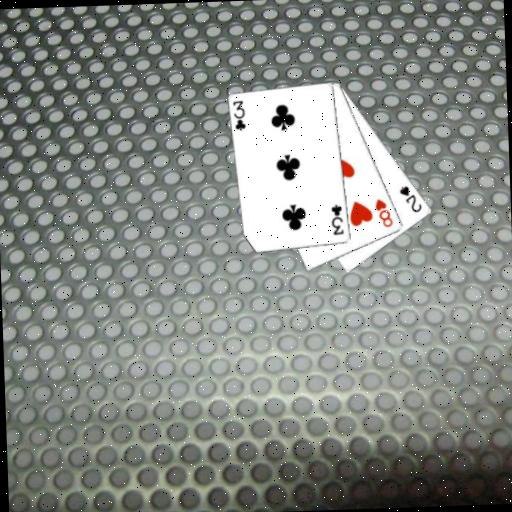2S: (396, 182, 424, 214)
3C: (327, 201, 345, 237), (229, 97, 247, 133)
8H: (372, 195, 395, 229)
